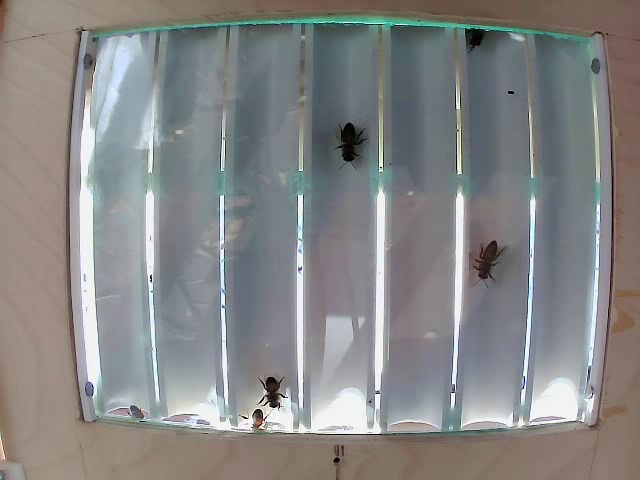bee: (326, 121, 366, 169), (239, 369, 287, 404), (467, 233, 494, 282)
